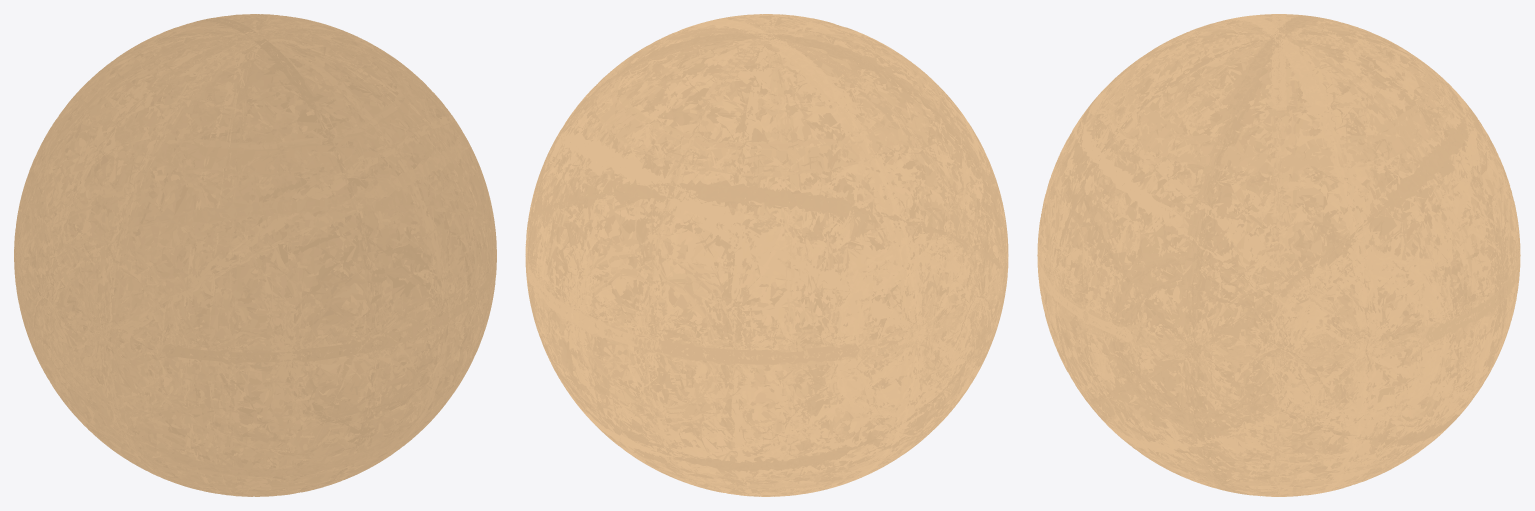
File: conductor_guide.glb
3 renders of one model, left to right at view 1: azimuth 30°, elevation 25°; view 2: azimuth 150°, elevation 25°; view 3: azimuth 270°, elevation 25°, orthographic.
Parts seen in each view (by area): view 1: conductor_guide; view 2: conductor_guide; view 3: conductor_guide.
Boxes of the visible parts, <box> form: conductor_guide: <box>14,14,496,496</box>; conductor_guide: <box>525,14,1008,496</box>; conductor_guide: <box>1037,14,1520,496</box>.
Size of the model in its own units: 2 by 2 by 2.
